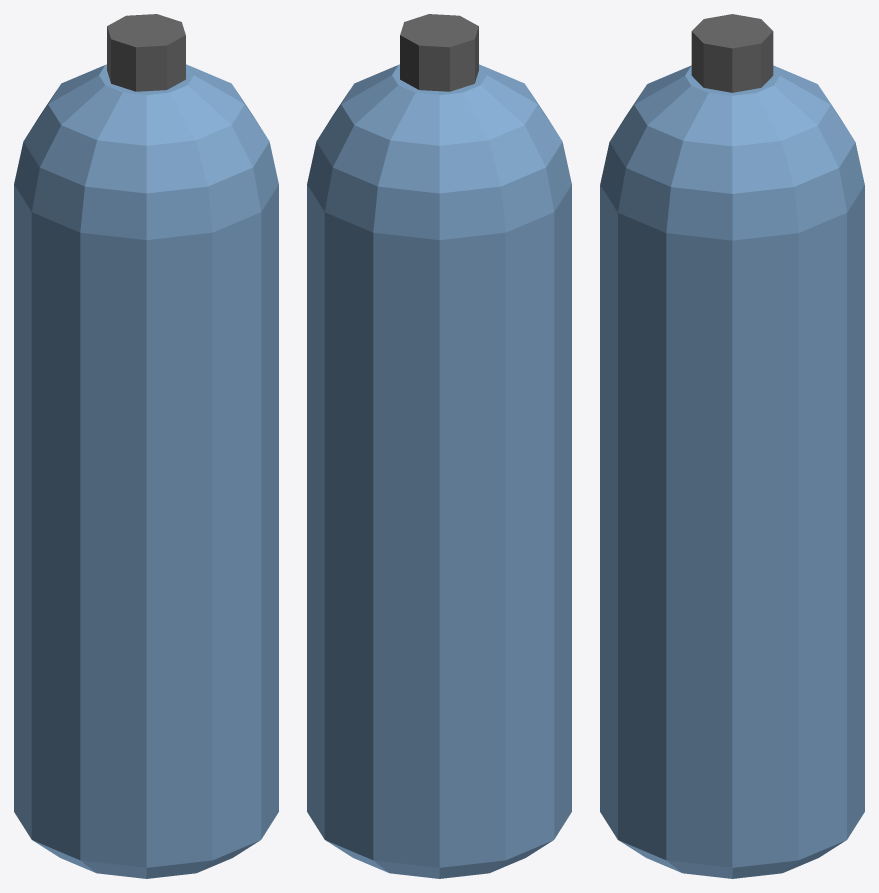
File: WaterBottle 1.glb
The picture shows the model from 3 angles, left to right: view 1: azimuth 30°, elevation 25°; view 2: azimuth 150°, elevation 25°; view 3: azimuth 270°, elevation 25°; orthographic projection.
Parts seen in each view (by area): view 1: WaterBottle_1; view 2: WaterBottle_1; view 3: WaterBottle_1.
Part boxes in pixels (x1,y1,x2,y2): WaterBottle_1: (14, 14, 278, 878); WaterBottle_1: (307, 14, 571, 878); WaterBottle_1: (600, 14, 864, 878).
Size of the model in its own units: 0.1378 by 0.4626 by 0.1378.
